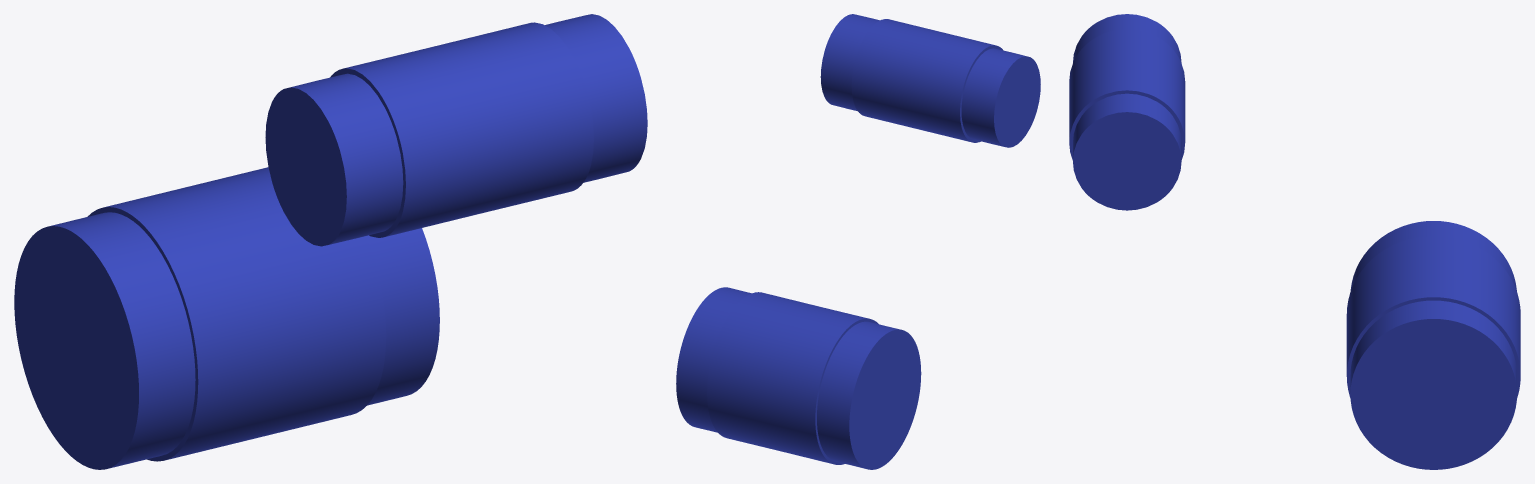
The model's file is turret wheels FBX.fbx.
3 views of the same model, side by side, from view 1: azimuth 30°, elevation 25°; view 2: azimuth 150°, elevation 25°; view 3: azimuth 270°, elevation 25° (orthographic). The views are drawn at different scales.
Parts seen in each view (by area): view 1: Body1, Body2; view 2: Body1, Body2; view 3: Body1, Body2.
Part boxes in pixels (x1,y1,x2,y2): Body1: (14,167,439,469); Body2: (265,14,647,246); Body1: (676,287,921,469); Body2: (820,14,1040,147); Body1: (1346,221,1520,469); Body2: (1069,14,1185,210).
Bounding box in the file's own units: 4 × 6.94 × 7.79.
